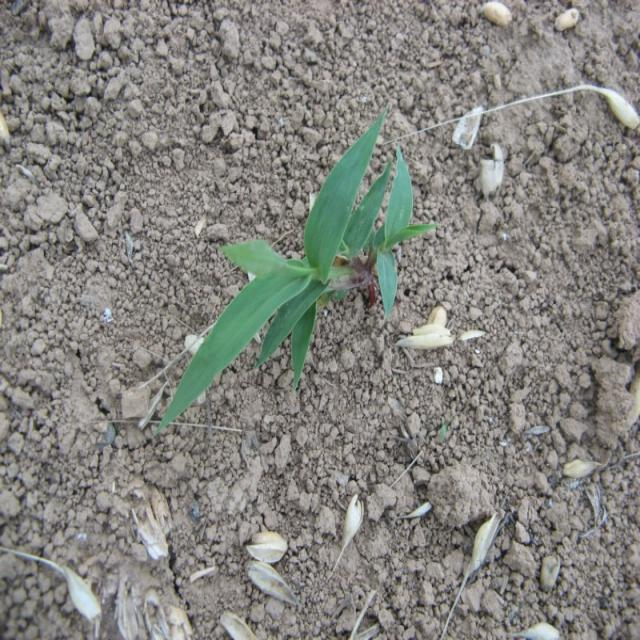bg: (158, 111, 433, 429)
